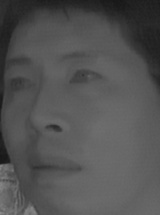eye: (64, 66, 103, 90), (3, 73, 34, 95)
mouth: (23, 151, 83, 188)
